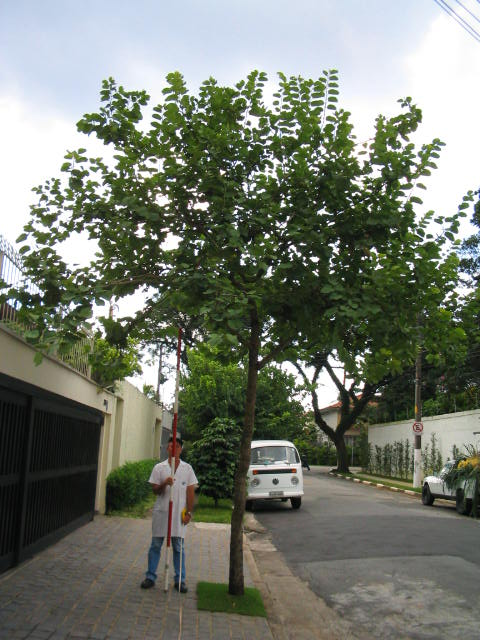crown: (3, 68, 468, 396)
stem: (224, 368, 268, 597), (325, 442, 356, 475)
stick: (158, 327, 187, 593)
tree: (1, 65, 470, 597)
